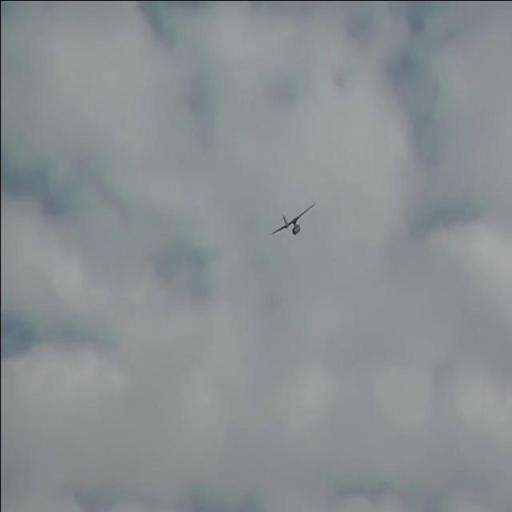uav: (270, 203, 314, 236)
